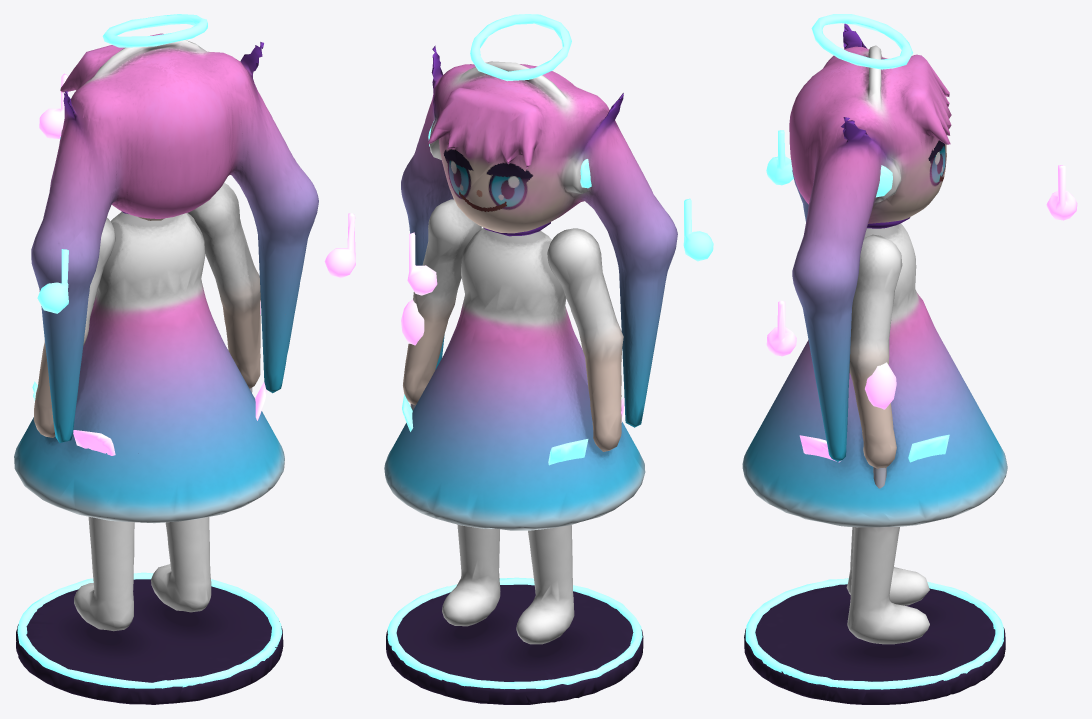
File: Synthia.glb
3 views of the same model, side by side, from view 1: azimuth 30°, elevation 25°; view 2: azimuth 150°, elevation 25°; view 3: azimuth 270°, elevation 25° (orthographic). The views are drawn at different scales.
Visible parts, largest first — view 1: Head, Body, Float1, ArmR, LegL, LegR, Float1_Glow, ArmL, Halo_Glow, Orbit_Glow, Orbit_Glow2, Body_Glow; view 2: Body, Head, Float1, ArmL, ArmR, LegL, LegR, Float1_Glow, Halo_Glow, Orbit_Glow2, Orbit_Glow, Body_Glow2 (+1 smaller); view 3: Head, Body, Float1, ArmR, LegR, Float1_Glow, Halo_Glow, Orbit_Glow, LegL, WeaponR_Glow, Orbit_Glow2, Body_Glow2.
Part boxes in pixels (left/top/right/bottom): Head: left=31, top=33, right=318, bottom=442; Body: left=14, top=211, right=284, bottom=523; Float1: left=16, top=579, right=283, bottom=704; ArmR: left=188, top=182, right=260, bottom=388; LegL: left=74, top=517, right=134, bottom=631; LegR: left=151, top=517, right=211, bottom=612; Float1_Glow: left=17, top=572, right=282, bottom=688; ArmL: left=33, top=218, right=115, bottom=437; Halo_Glow: left=102, top=14, right=207, bottom=47; Orbit_Glow: left=39, top=73, right=355, bottom=278; Orbit_Glow2: left=37, top=249, right=68, bottom=313; Body_Glow: left=73, top=381, right=266, bottom=455; Body: left=384, top=222, right=645, bottom=530; Head: left=401, top=45, right=677, bottom=427; Float1: left=386, top=584, right=643, bottom=704; ArmL: left=547, top=228, right=623, bottom=451; ArmR: left=403, top=199, right=481, bottom=404; LegL: left=516, top=525, right=574, bottom=644; LegR: left=442, top=524, right=500, bottom=626; Float1_Glow: left=387, top=577, right=642, bottom=689; Halo_Glow: left=470, top=14, right=571, bottom=81; Orbit_Glow2: left=683, top=198, right=713, bottom=261; Orbit_Glow: left=407, top=232, right=437, bottom=295; Body_Glow2: left=402, top=394, right=588, bottom=465; Head: left=789, top=23, right=951, bottom=461; Body: left=742, top=217, right=1007, bottom=527; Float1: left=744, top=584, right=1005, bottom=704; ArmR: left=849, top=234, right=902, bottom=468; LegR: left=847, top=527, right=929, bottom=644; Float1_Glow: left=745, top=578, right=1003, bottom=689; Halo_Glow: left=811, top=14, right=912, bottom=69; Orbit_Glow: left=766, top=165, right=1077, bottom=356; LegL: left=846, top=527, right=929, bottom=605; WeaponR_Glow: left=865, top=362, right=896, bottom=409; Orbit_Glow2: left=766, top=130, right=793, bottom=185; Body_Glow2: left=908, top=434, right=949, bottom=462.
Size of the model in its own units: 1.06 by 2.05 by 0.9979.
9 materials, 1 textured.
